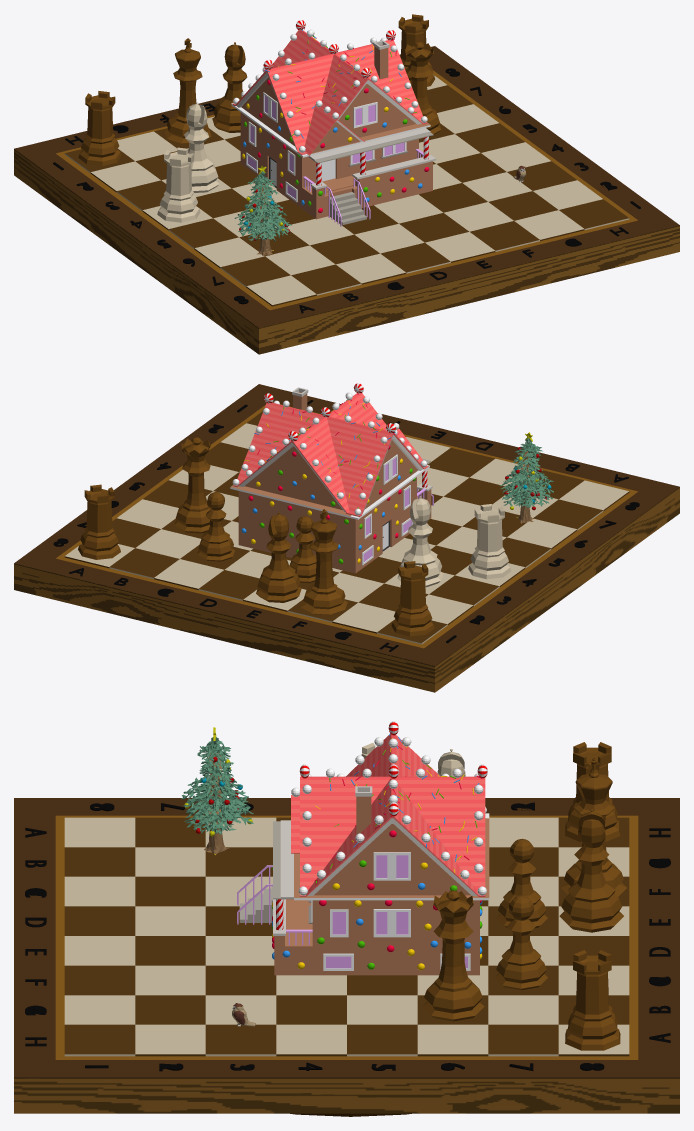
The picture shows the model from 3 angles, top to bottom: view 1: azimuth 30°, elevation 25°; view 2: azimuth 150°, elevation 25°; view 3: azimuth 270°, elevation 25°; orthographic projection. The views are drawn at different scales.
Parts seen in each view (by area): view 1: Cube.002, Cube.1203, OBJRANDOM_CHRISTMAS_TREE; view 2: Cube.002, Cube.1203, OBJRANDOM_CHRISTMAS_TREE; view 3: Cube.002, Cube.1203, OBJRANDOM_CHRISTMAS_TREE.
Part boxes in pixels (bbox=[...]): Cube.002: bbox=[14, 14, 679, 354]; Cube.1203: bbox=[231, 20, 435, 226]; OBJRANDOM_CHRISTMAS_TREE: bbox=[234, 166, 291, 255]; Cube.002: bbox=[14, 384, 679, 692]; Cube.1203: bbox=[230, 383, 433, 573]; OBJRANDOM_CHRISTMAS_TREE: bbox=[499, 432, 553, 523]; Cube.002: bbox=[14, 742, 679, 1113]; Cube.1203: bbox=[237, 721, 489, 975]; OBJRANDOM_CHRISTMAS_TREE: bbox=[181, 727, 253, 854].
Bounding box in the file's own units: 3981 × 1552 × 4012.
Materials: 38 (3 with a texture image).
